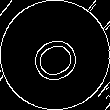O_NE: (22, 24, 88, 86)
